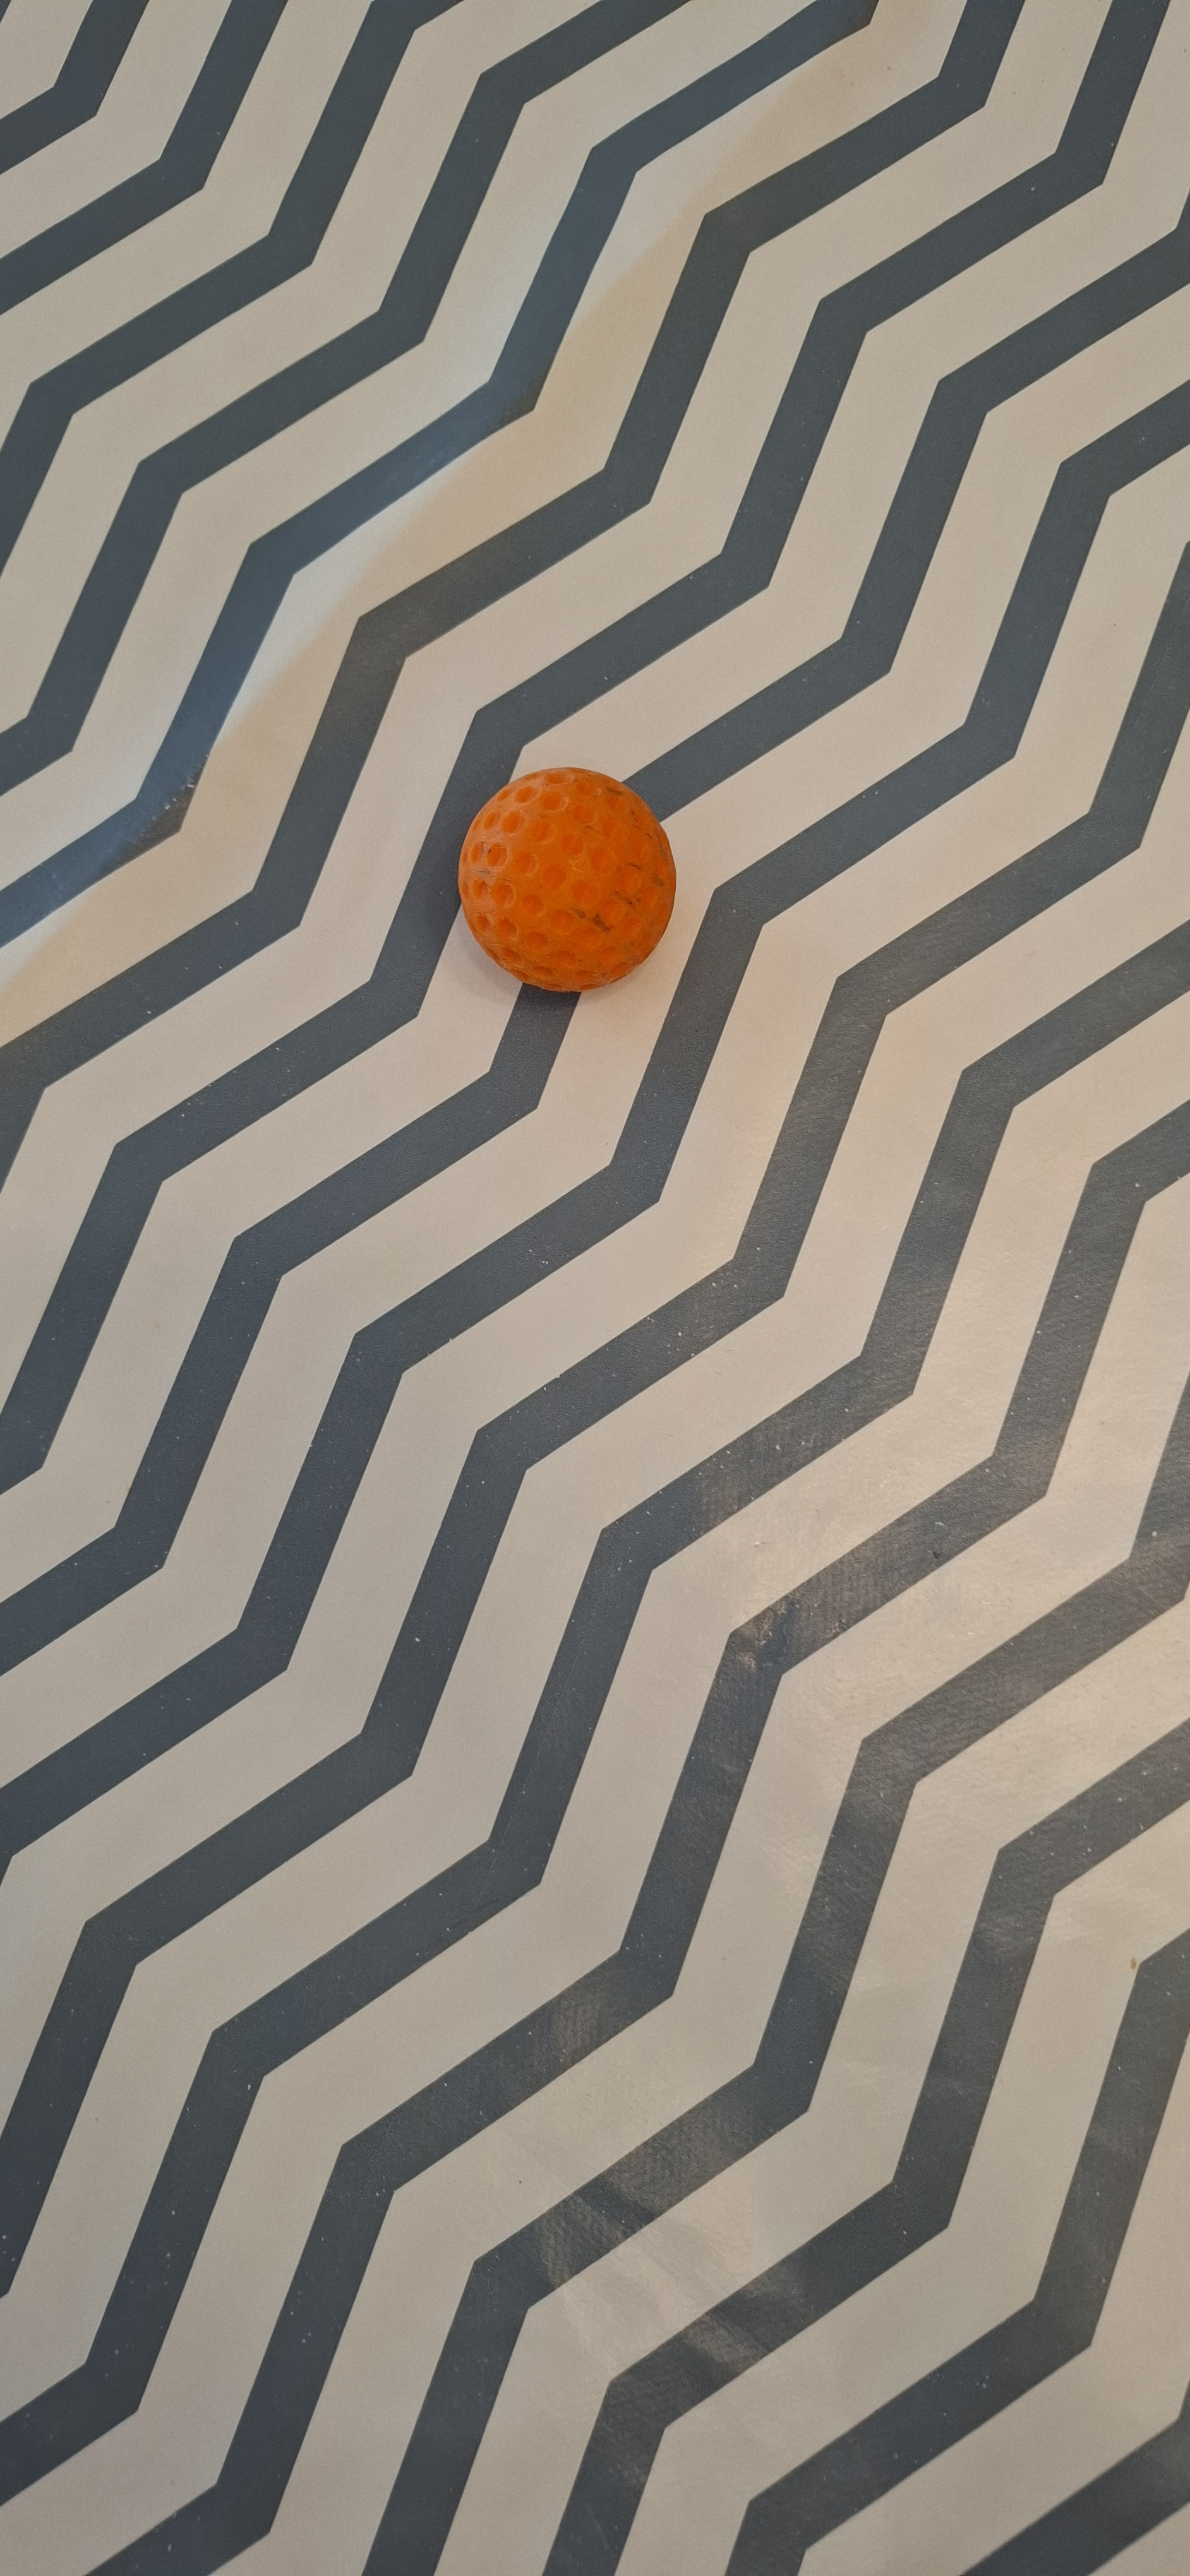ball: (353, 1111, 460, 1584)
